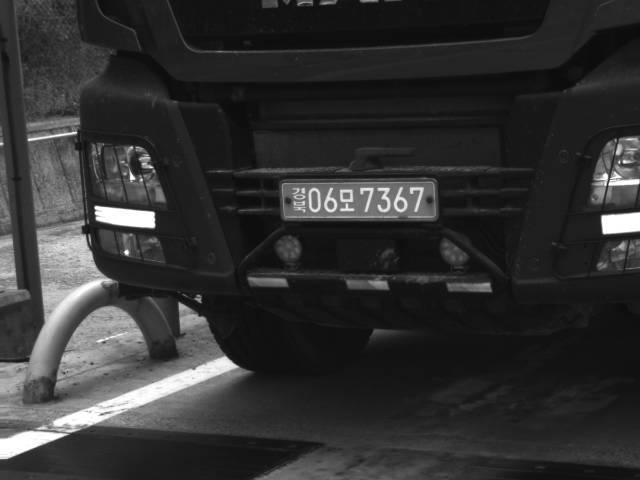car: (67, 1, 639, 372)
plate: (278, 179, 437, 218)
